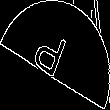P_SW: (34, 24, 76, 86)
